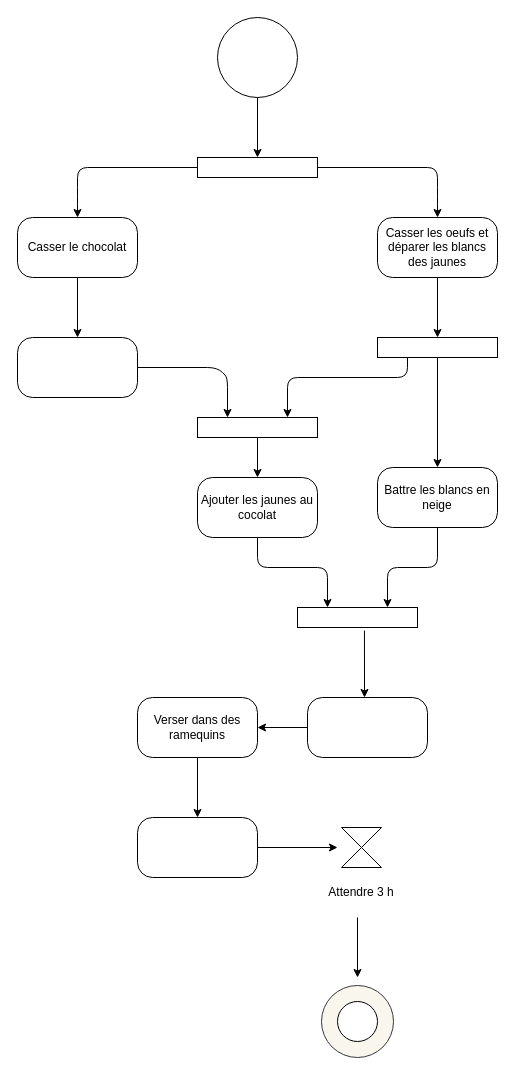
The diagram is 515 pixels wide and 1075 high, and some of its shapes have lost their labels. The shapes that lost their labels are listed below. From the top down, each one's centre as x and y in pixels, then its label:
At pixel 77 367: "Fondre le chocolat".
At pixel 367 727: "Mélanger les blancs à la préparation chocolat".
At pixel 197 847: "Mettre au frigo".
